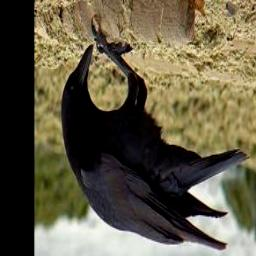Crow: (60, 14, 250, 252)
